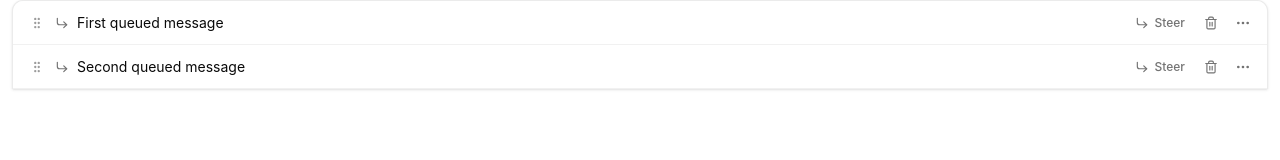
Test case: TaskChatQueuedMessages › explains steering_temporarily_unavailable without claiming the message was delivered
The image size is (1280, 160).
Click the button with test id "task-chat-queued-steer-comment-1" at (1160, 22), box [1126,8,1193,36]
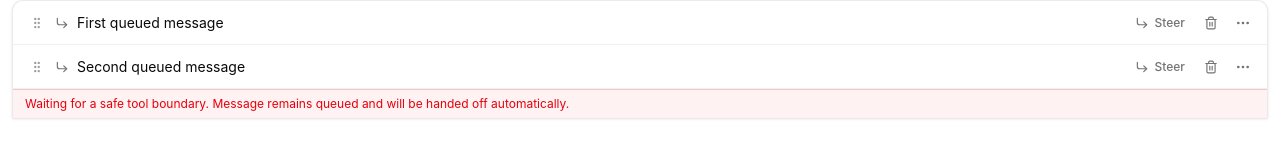
Expected: the text "First queued message" is shown, [77,14,224,30]
Expected: the text "tool boundary" is shown, [25,96,569,111]
